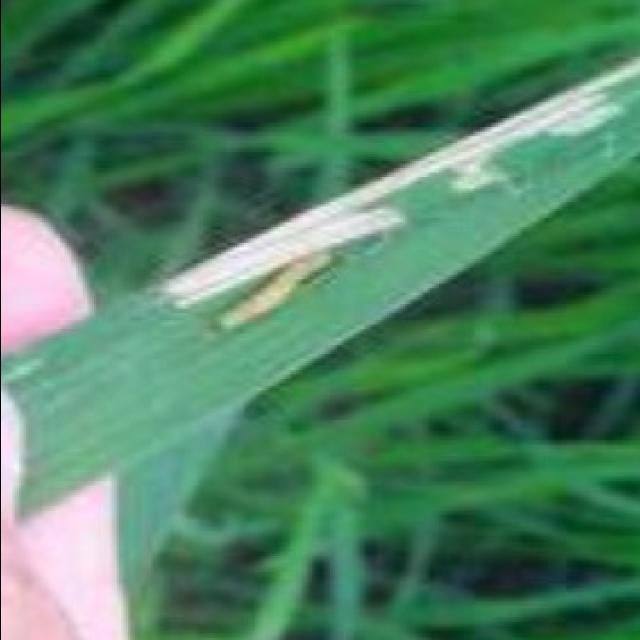rice leaf roller: (163, 63, 640, 329)
